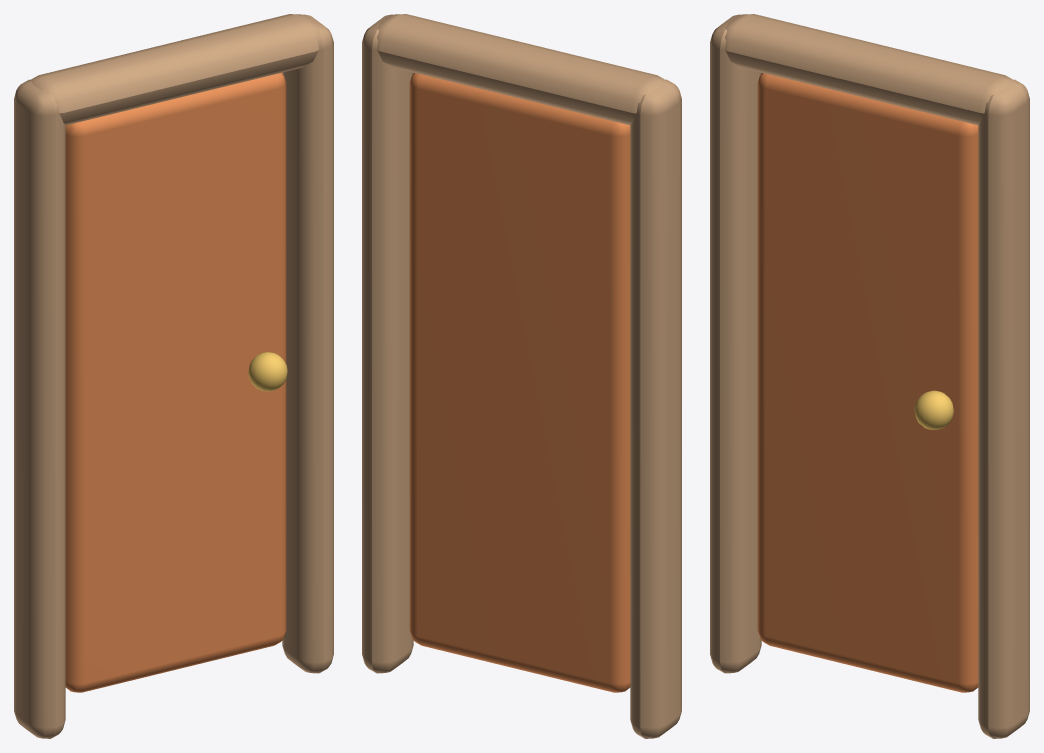
File: word-door.glb
3 views of the same model, side by side, from view 1: azimuth 30°, elevation 25°; view 2: azimuth 150°, elevation 25°; view 3: azimuth 330°, elevation 25° (orthographic).
Parts seen in each view (by area): view 1: door, door frame, door frame.001, door frame.002, door knob; view 2: door, door frame, door frame.001, door frame.002; view 3: door, door frame.001, door frame, door frame.002, door knob.
Part boxes in pixels (bbox=[...]): door: bbox=[65, 72, 286, 692]; door frame: bbox=[14, 79, 65, 738]; door frame.001: bbox=[282, 14, 333, 673]; door frame.002: bbox=[29, 14, 318, 125]; door knob: bbox=[248, 352, 287, 391]; door: bbox=[409, 72, 630, 692]; door frame: bbox=[630, 79, 681, 738]; door frame.001: bbox=[362, 14, 413, 673]; door frame.002: bbox=[377, 14, 666, 125]; door: bbox=[757, 72, 978, 692]; door frame.001: bbox=[978, 79, 1029, 738]; door frame: bbox=[710, 14, 761, 673]; door frame.002: bbox=[725, 14, 1014, 125]; door knob: bbox=[914, 390, 953, 429].
Size of the model in its own units: 0.88 by 1.81 by 0.205.
